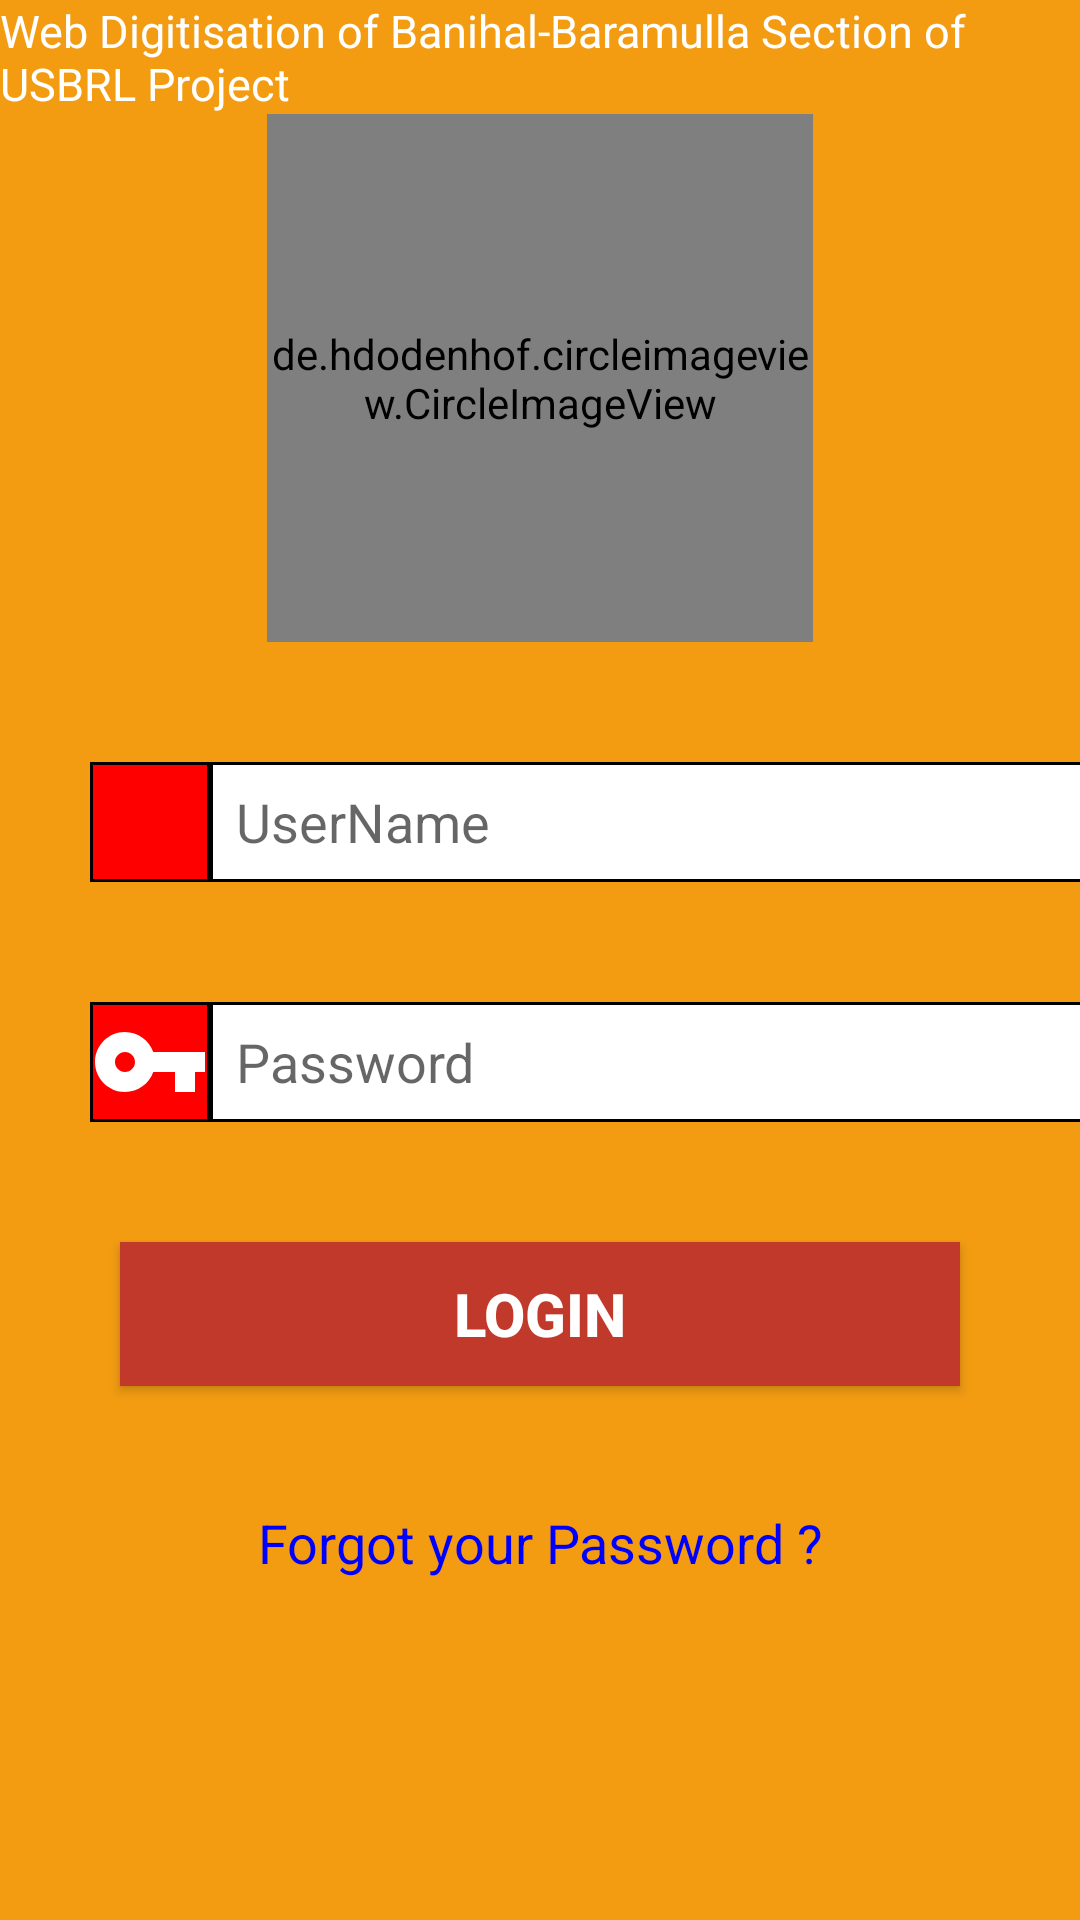

Icon click points for this 1080px×1920px phone screenshot, format [x,y]:
vpn key: [150,1062]
